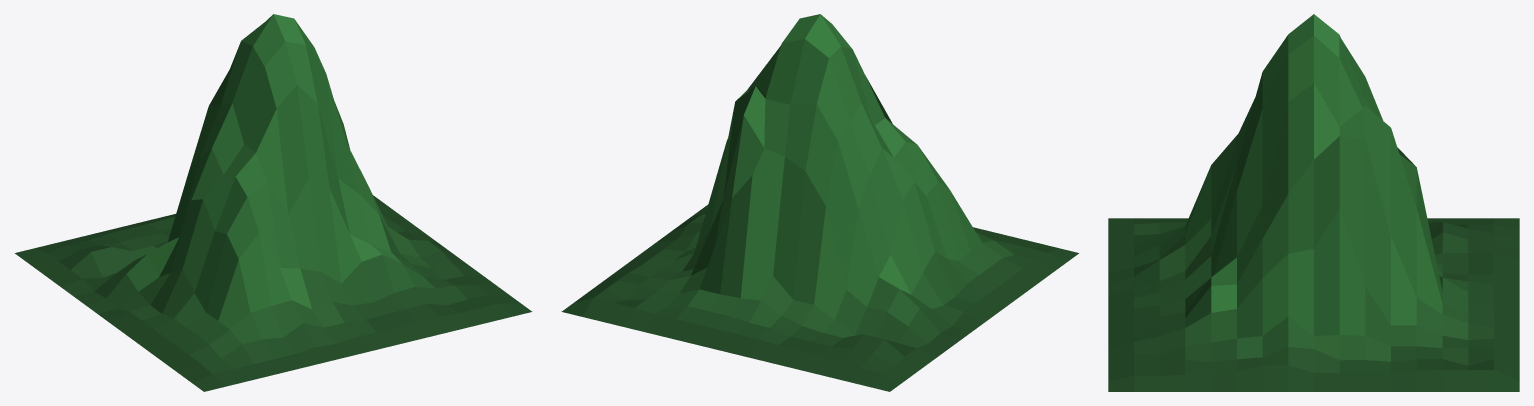
File: Terrain_23_Dark_Green.fbx
The picture shows the model from 3 angles, left to right: view 1: azimuth 30°, elevation 25°; view 2: azimuth 150°, elevation 25°; view 3: azimuth 270°, elevation 25°; orthographic projection. The views are drawn at different scales.
Parts seen in each view (by area): view 1: Terrain_23_Dark_Green; view 2: Terrain_23_Dark_Green; view 3: Terrain_23_Dark_Green.
Part boxes in pixels (x1,y1,x2,y2): Terrain_23_Dark_Green: (15,14,532,391); Terrain_23_Dark_Green: (561,14,1078,391); Terrain_23_Dark_Green: (1108,14,1519,391).
Size of the model in its own units: 10000 by 7811 by 10000.
